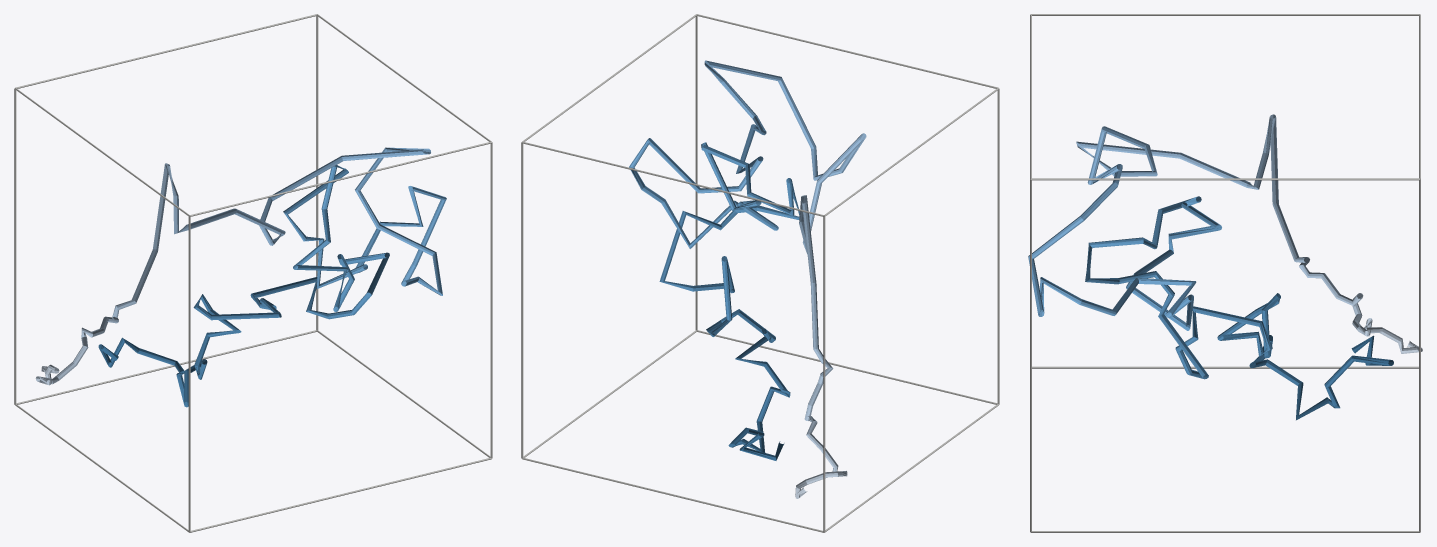
The picture shows the model from 3 angles, left to right: view 1: azimuth 30°, elevation 25°; view 2: azimuth 150°, elevation 25°; view 3: azimuth 270°, elevation 25°; orthographic projection. The views are drawn at different scales.
Parts seen in each view (by area): view 1: geometry_0, geometry_1; view 2: geometry_0, geometry_1; view 3: geometry_0, geometry_1.
Boxes of the visible parts, <box> form: geometry_0: <box>35,147,446,407</box>; geometry_1: <box>14,14,492,532</box>; geometry_0: <box>629,60,866,498</box>; geometry_1: <box>521,14,999,532</box>; geometry_0: <box>1028,114,1422,420</box>; geometry_1: <box>1030,14,1420,532</box>.
Bounding box in the file's own units: 0.3031 × 0.3014 × 0.3044.
